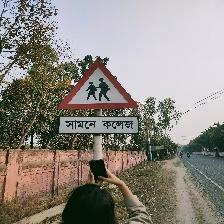College-in-front: (48, 33, 150, 166)
